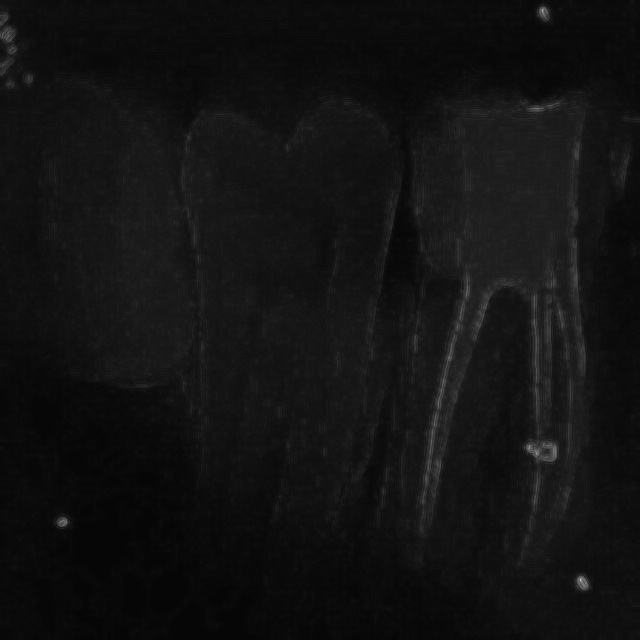Class 0- No endodontic treatment: (397, 69, 634, 627)
cavity: (165, 46, 402, 628)
